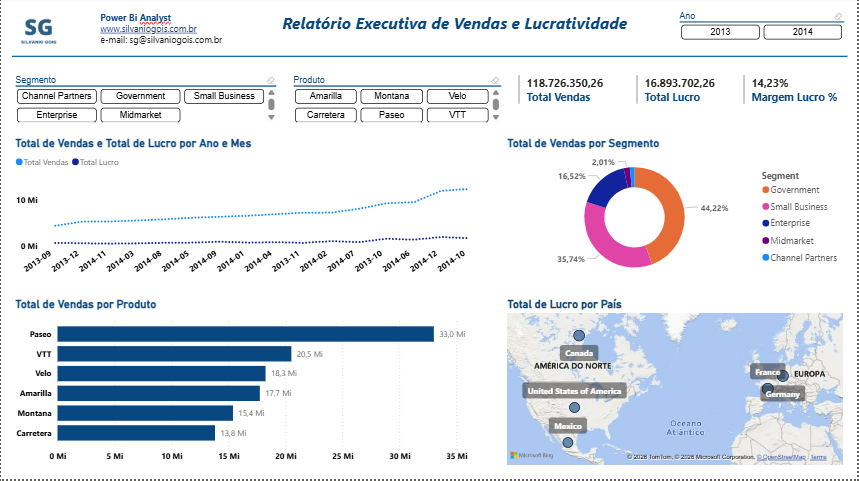

What the dashboard file says about the page in this screenshot:
{"tool":"powerbi","page":{"name":"Página 1","canvas":[1280,720],"ordinal":0},"visuals":[{"type":"textbox","box":[416,16,544,48],"z":0},{"type":"textbox","box":[144,16,208,64],"z":1},{"type":"image","box":[16,16,80,64],"z":2},{"type":"multiRowCard","fields":{"Values":["Medidas.Total Vendas"]},"box":[768,112,160,64],"z":3},{"type":"multiRowCard","fields":{"Values":["Medidas.Total Lucro"]},"box":[944,112,144,64],"z":4},{"type":"multiRowCard","fields":{"Values":["Medidas.Margem Lucro %"]},"box":[1104,112,160,64],"z":5},{"type":"lineChart","title":"Total de Vendas e Total de Lucro por Ano e Mes","fields":{"Category":["D_Calendario.AnoMes"],"Y":["Medidas.Total Vendas","Medidas.Total Lucro"]},"box":[16,208,704,224],"z":6},{"type":"barChart","title":"Total de Vendas por Produto","fields":{"Category":["D_Produtos.Product"],"Y":["Medidas.Total Vendas"]},"box":[16,448,704,256],"z":7},{"type":"donutChart","title":"Total de Vendas por Segmento","fields":{"Category":["D_Detalhes.Segment"],"Y":["Medidas.Total Vendas"]},"box":[752,208,512,224],"z":8},{"type":"map","title":"Total de Lucro por País","fields":{"Category":["D_Detalhes.Country"],"Size":["Medidas.Total Lucro"]},"box":[752,448,512,256],"z":9},{"type":"ChicletSlicer1448559807354","fields":{"Category":["D_Calendario.Ano"]},"box":[1008,16,256,64],"z":10},{"type":"ChicletSlicer1448559807354","fields":{"Category":["D_Detalhes.Segment"]},"box":[16,112,400,80],"z":11},{"type":"ChicletSlicer1448559807354","fields":{"Category":["D_Produtos.Product"]},"box":[432,112,320,80],"z":12},{"type":"shape","box":[16,80,1248,16],"z":13}]}

Visuals, with their boxes in screenshot pixels (x1, y1, x2, y2), scaled from the page's 1280x720 canvas onto the 859x481 screenshot:
textbox: bbox(279, 11, 644, 43)
textbox: bbox(97, 11, 236, 53)
image: bbox(11, 11, 64, 53)
multiRowCard - Medidas.Total Vendas: bbox(515, 75, 623, 118)
multiRowCard - Medidas.Total Lucro: bbox(634, 75, 730, 118)
multiRowCard - Medidas.Margem Lucro %: bbox(741, 75, 848, 118)
"Total de Vendas e Total de Lucro por Ano e Mes" lineChart: bbox(11, 139, 483, 289)
"Total de Vendas por Produto" barChart: bbox(11, 299, 483, 470)
"Total de Vendas por Segmento" donutChart: bbox(505, 139, 848, 289)
"Total de Lucro por País" map: bbox(505, 299, 848, 470)
ChicletSlicer1448559807354 - D_Calendario.Ano: bbox(676, 11, 848, 53)
ChicletSlicer1448559807354 - D_Detalhes.Segment: bbox(11, 75, 279, 128)
ChicletSlicer1448559807354 - D_Produtos.Product: bbox(290, 75, 505, 128)
shape: bbox(11, 53, 848, 64)
